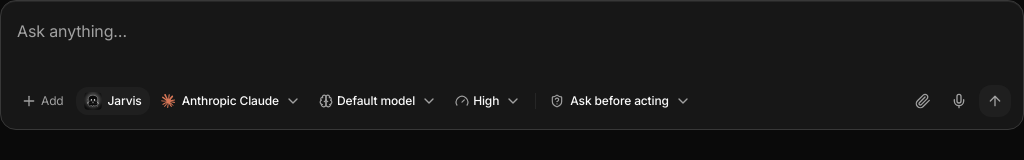
it: composer typeahead › opens the slash list with what the backend read, grouped, and picks with Enter without sending
Step 1. Type "/" into the text box with placeholder "Ask anything…" → (512, 45), box [13,13,1011,77]
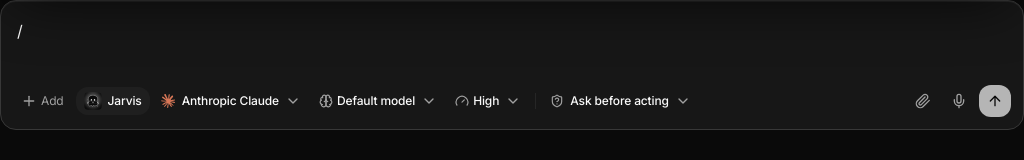
Step 2. Replace the text in the text box with "/re" → (512, 45), box [13,13,1011,77]
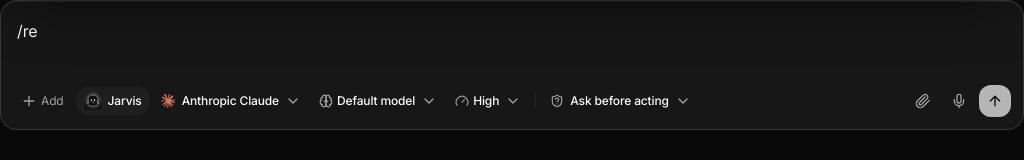
Step 3. Press Enter in the text box, box [13,13,1011,77]
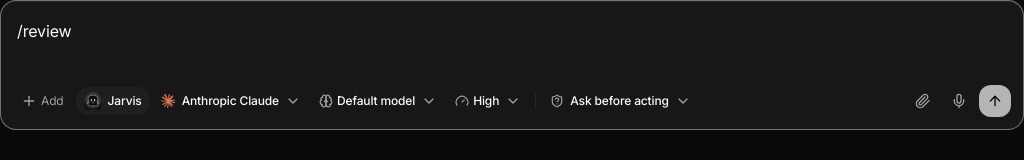
Expected: the text box holds "/review ", [13,13,1011,77]
